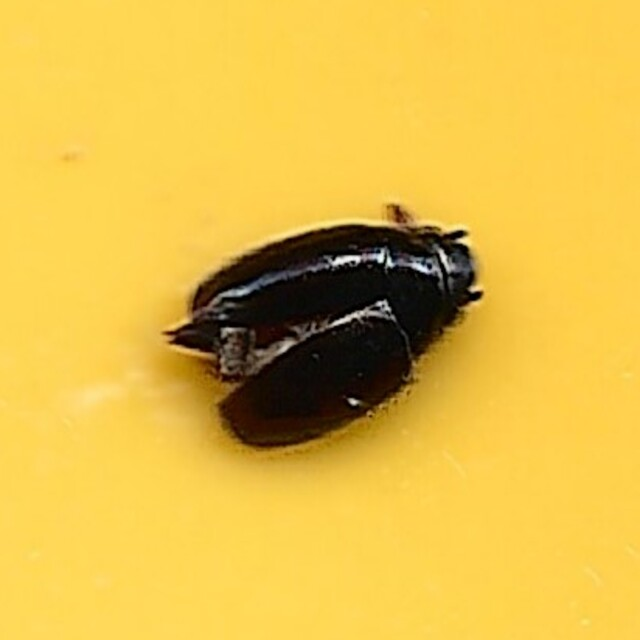Coleoptera: (155, 190, 485, 450)
